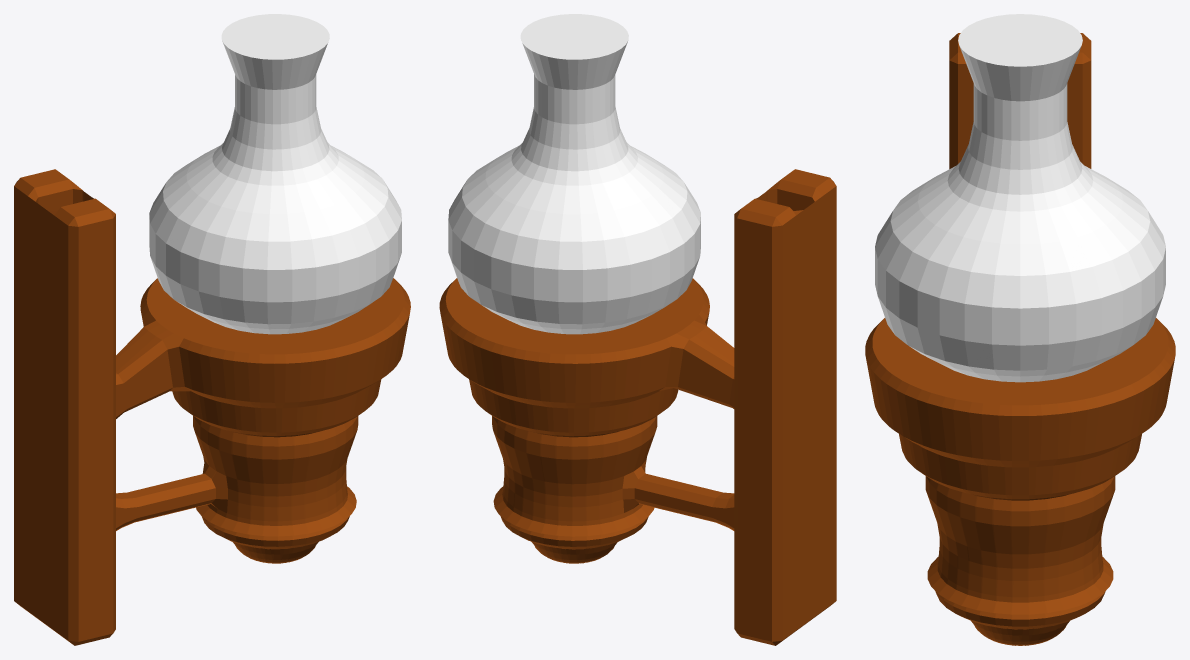
The model's file is pot.glb.
3 renders of one model, left to right at view 1: azimuth 30°, elevation 25°; view 2: azimuth 150°, elevation 25°; view 3: azimuth 270°, elevation 25°, orthographic. The views are drawn at different scales.
Visible parts, largest first — view 1: Cylinder.015_21.032; view 2: Cylinder.015_21.032; view 3: Cylinder.015_21.032.
Boxes of the visible parts, x1=… form: Cylinder.015_21.032: x1=14, y1=14, x2=410, y2=645; Cylinder.015_21.032: x1=439, y1=14, x2=836, y2=645; Cylinder.015_21.032: x1=865, y1=14, x2=1175, y2=645.
Bounding box in the file's own units: 4.41 × 6.4 × 2.93.
